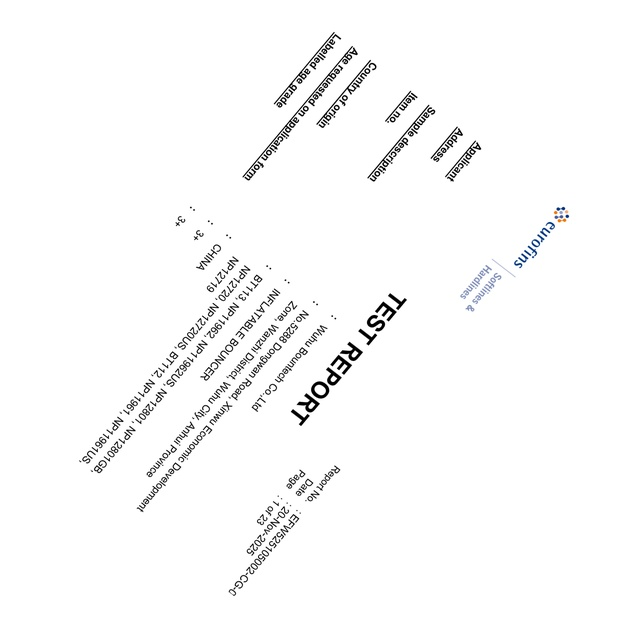eurofins: (508, 197, 573, 272)
